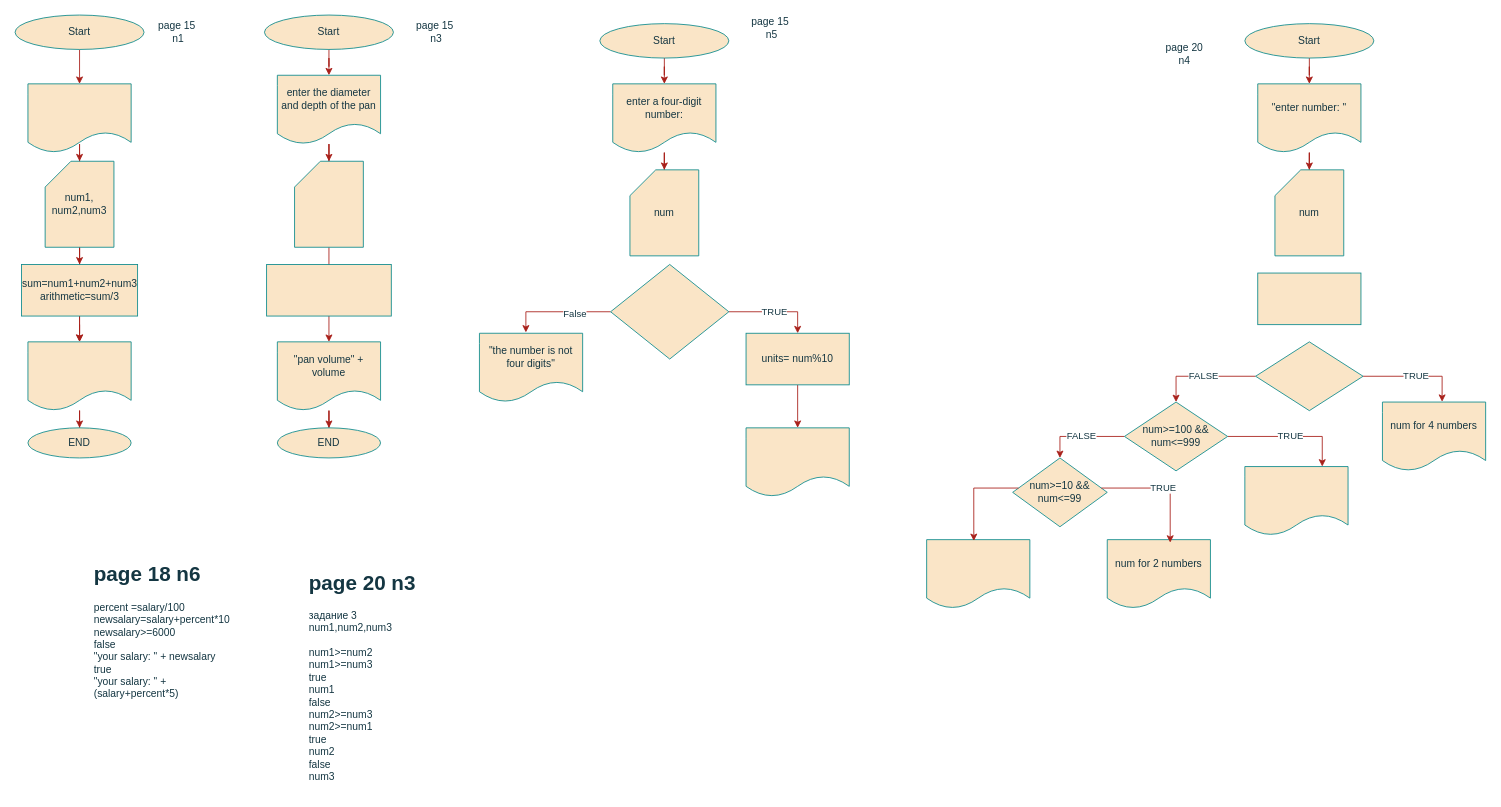
Image size: 1501x807. Some labels were removed from this diagram. Here are the shapes that lost their labels. From the top down, the box of each, then its label:
(27, 83, 131, 153): enter 3 numbers
(294, 160, 363, 247): diameter, depth
(266, 264, 391, 316): radius = diameter/2 area=3.14*radios*radius volume=area*depth
(1257, 272, 1361, 325): num >= 1 && num <= 9999
(610, 264, 729, 359): num >= 1000 && num <= 9999
(27, 341, 131, 411): "arithmetic mean: " + arithmetic "and sum: " + sum
(1255, 341, 1363, 411): num>=1000
(745, 427, 849, 497): "rightmost digit" + units
(1244, 466, 1348, 535): num for 3 numbers
(926, 539, 1030, 608): num for 1 numbers
